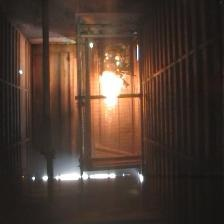fire: (90, 59, 133, 120)
